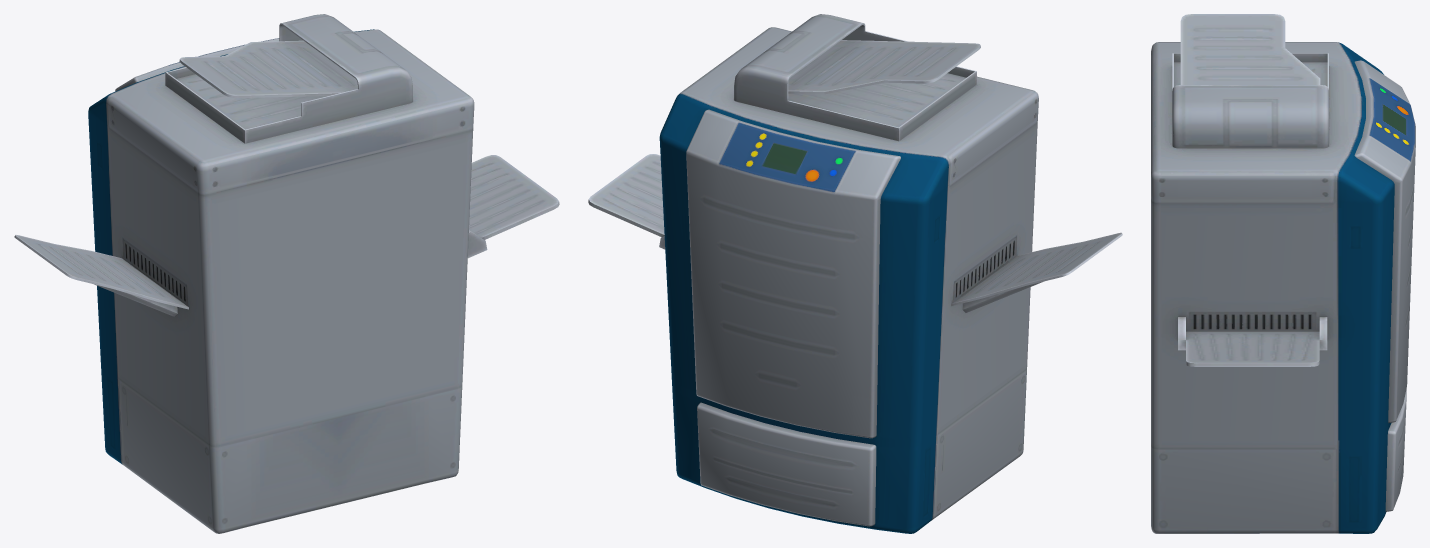
The model's file is OfficePrinter02.fbx.
3 renders of one model, left to right at view 1: azimuth 30°, elevation 25°; view 2: azimuth 150°, elevation 25°; view 3: azimuth 270°, elevation 25°, orthographic.
Visible parts, largest first — view 1: OfficePrinter02; view 2: OfficePrinter02; view 3: OfficePrinter02.
Part boxes in pixels (x1,y1,x2,y2): OfficePrinter02: (14,14,559,533); OfficePrinter02: (588,14,1122,533); OfficePrinter02: (1151,14,1415,533).
Size of the model in its own units: 1.76 by 1.46 by 0.8383.
1 material, 1 textured.
